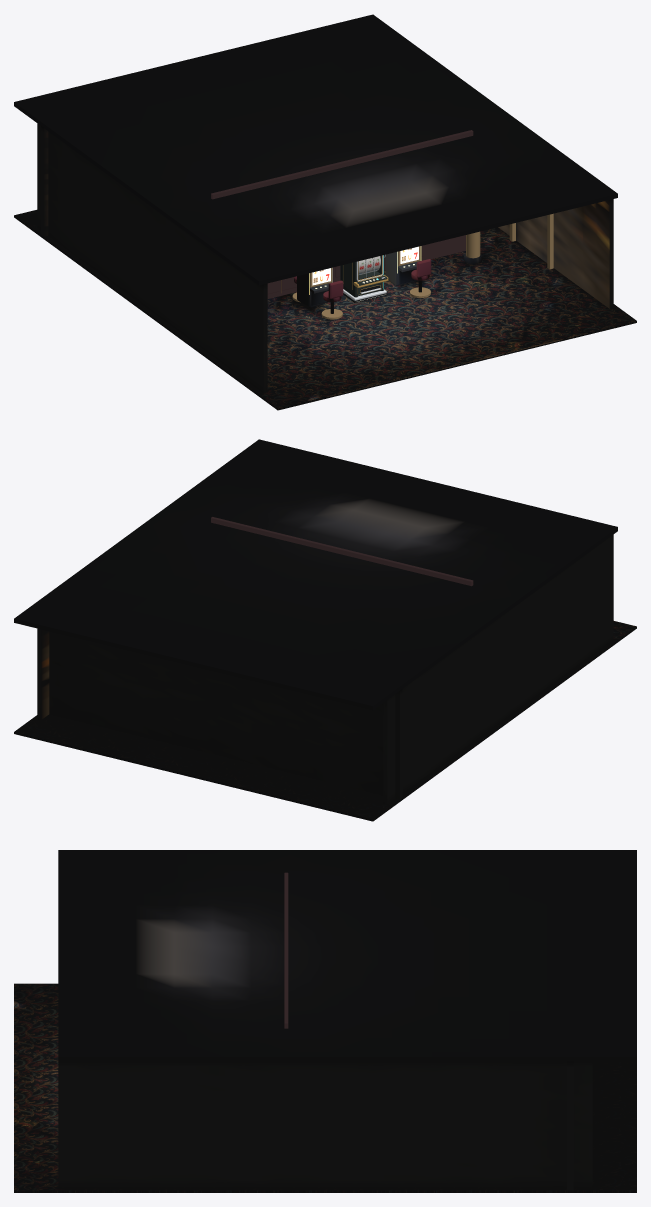
The model's file is classic_atrium.glb.
3 renders of one model, top to bottom at view 1: azimuth 30°, elevation 25°; view 2: azimuth 150°, elevation 25°; view 3: azimuth 270°, elevation 25°, orthographic. The views are drawn at different scales.
Parts seen in each view (by area): view 1: Casino_Casino Recessed charcoal ceiling, Casino_Casino Woven casino carpet, Casino_Casino Warm woven wall panels, Lounge_Velvet, Casino_Casino Brushed champagne bronze, Casino_Casino Graphite cabinet, Casino_Casino Oxblood leather, Cabinet_Enamel; view 2: Casino_Casino Recessed charcoal ceiling, Casino_Casino Warm woven wall panels, Casino_Casino Woven casino carpet, Lounge_Velvet; view 3: Casino_Casino Recessed charcoal ceiling, Casino_Casino Warm woven wall panels, Casino_Casino Woven casino carpet, Lounge_Velvet.
Part boxes in pixels (<box>): Casino_Casino Recessed charcoal ceiling: <box>14,14,617,285</box>; Casino_Casino Woven casino carpet: <box>14,210,636,410</box>; Casino_Casino Warm woven wall panels: <box>37,123,613,393</box>; Lounge_Velvet: <box>211,130,473,298</box>; Casino_Casino Brushed champagne bronze: <box>292,213,553,319</box>; Casino_Casino Graphite cabinet: <box>297,252,482,313</box>; Casino_Casino Oxblood leather: <box>294,259,431,302</box>; Cabinet_Enamel: <box>342,262,387,296</box>; Casino_Casino Recessed charcoal ceiling: <box>14,439,617,710</box>; Casino_Casino Warm woven wall panels: <box>37,534,613,804</box>; Casino_Casino Woven casino carpet: <box>14,621,636,821</box>; Lounge_Velvet: <box>211,517,473,586</box>; Casino_Casino Recessed charcoal ceiling: <box>58,850,636,1061</box>; Casino_Casino Warm woven wall panels: <box>58,1061,592,1190</box>; Casino_Casino Woven casino carpet: <box>14,983,636,1192</box>; Lounge_Velvet: <box>284,872,288,1028</box>.
Bounding box in the file's own units: 11 × 3.52 × 14.
Materials: 25 (5 with a texture image).
